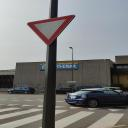preferencia: (22, 14, 76, 48)
